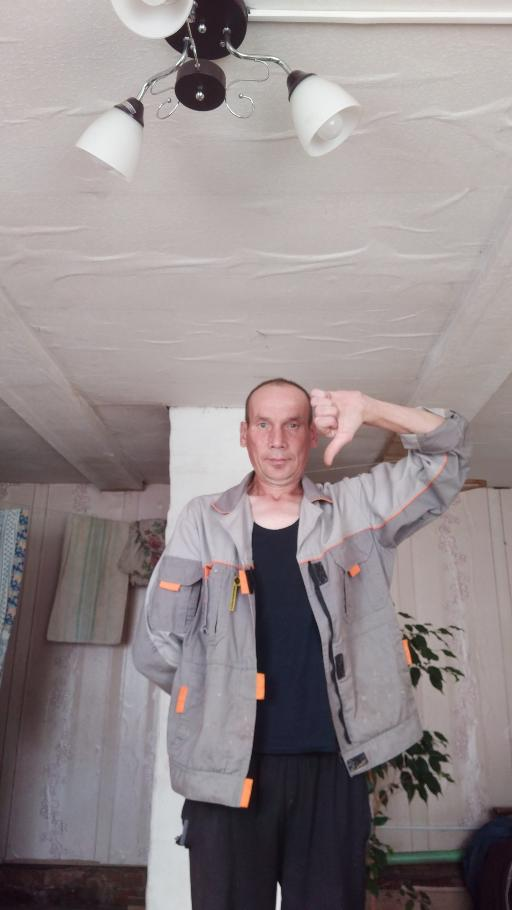dislike: (308, 385, 366, 467)
